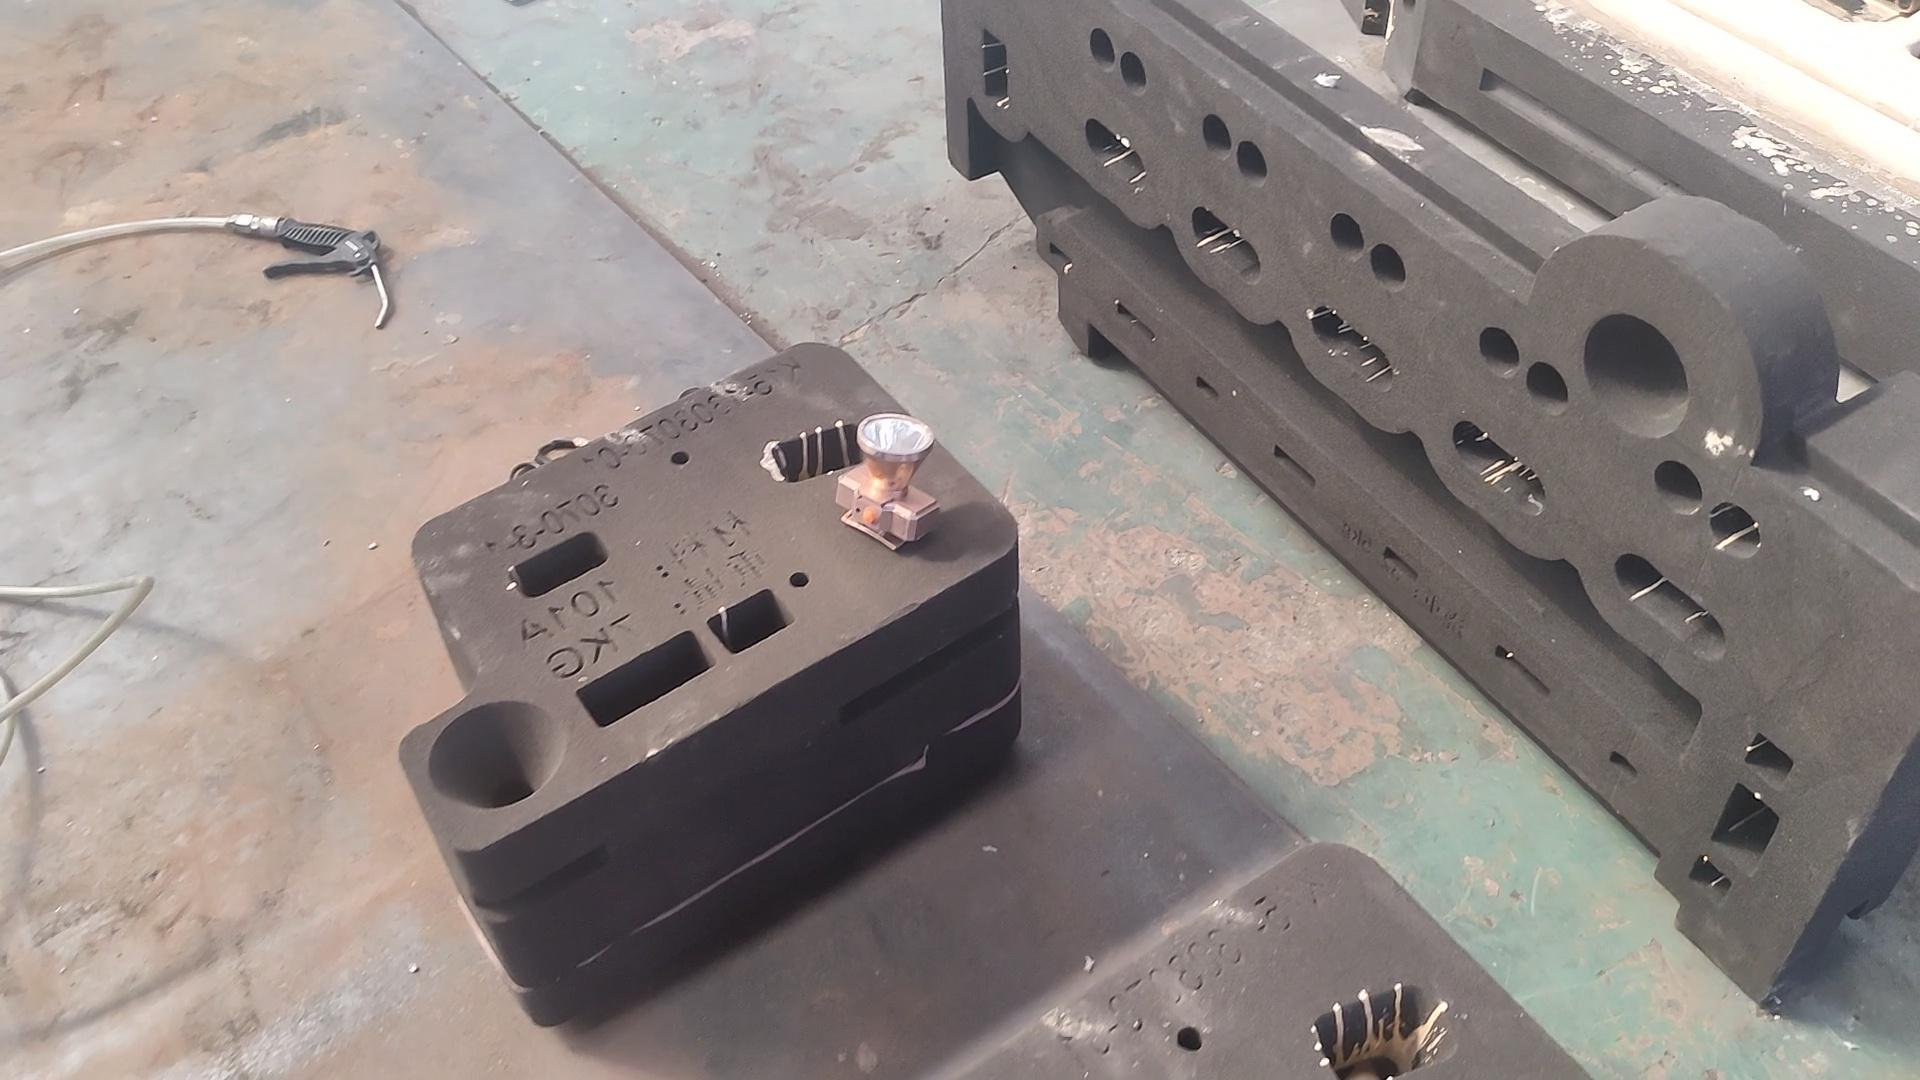pouring hole: (429, 700, 560, 808), (1582, 313, 1689, 438)
